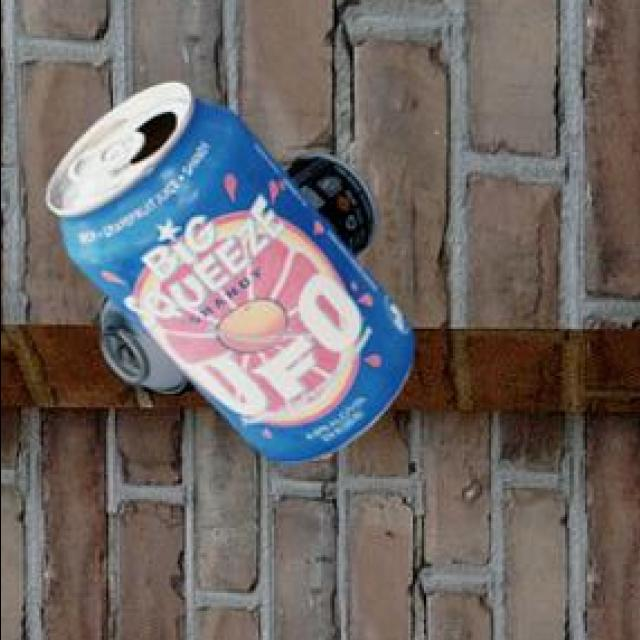logam: (44, 86, 411, 467), (95, 158, 373, 399)
